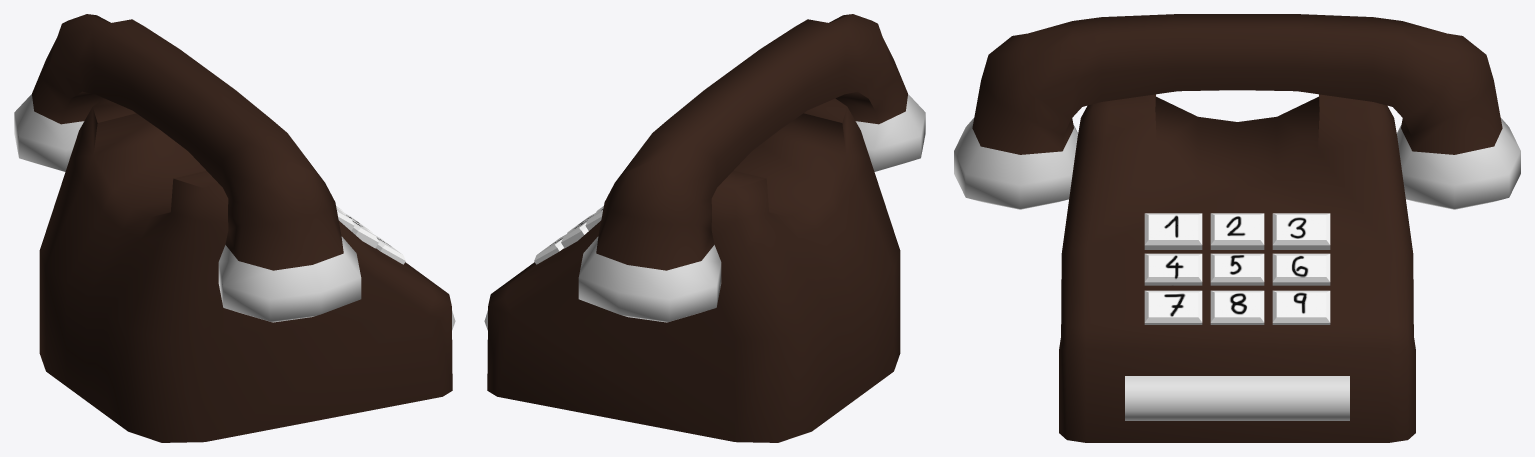
The model's file is Telefoun.fbx.
3 views of the same model, side by side, from view 1: azimuth 30°, elevation 25°; view 2: azimuth 150°, elevation 25°; view 3: azimuth 270°, elevation 25° (orthographic). The views are drawn at different scales.
Parts seen in each view (by area): view 1: Telefoun; view 2: Telefoun; view 3: Telefoun, telefon_tlacitko.002, telefon_tlacitko.003, telefon_tlacitko, telefon_tlacitko.001, telefon_tlacitko.005, telefon_tlacitko.006, telefon_tlacitko.007, telefon_tlacitko.004, telefon_tlacitko.008.
Boxes of the visible parts, x1,y1,x2,y2 form: Telefoun: (14,14,455,442); Telefoun: (484,14,925,442); Telefoun: (954,14,1520,442); telefon_tlacitko.002: (1144,213,1202,249); telefon_tlacitko.003: (1272,213,1330,249); telefon_tlacitko: (1144,290,1202,324); telefon_tlacitko.001: (1272,290,1330,324); telefon_tlacitko.005: (1210,213,1264,249); telefon_tlacitko.006: (1144,253,1202,285); telefon_tlacitko.007: (1272,253,1330,285); telefon_tlacitko.004: (1210,290,1264,324); telefon_tlacitko.008: (1210,253,1264,285).
Size of the model in its own units: 0.7066 by 0.4827 by 0.4424.
